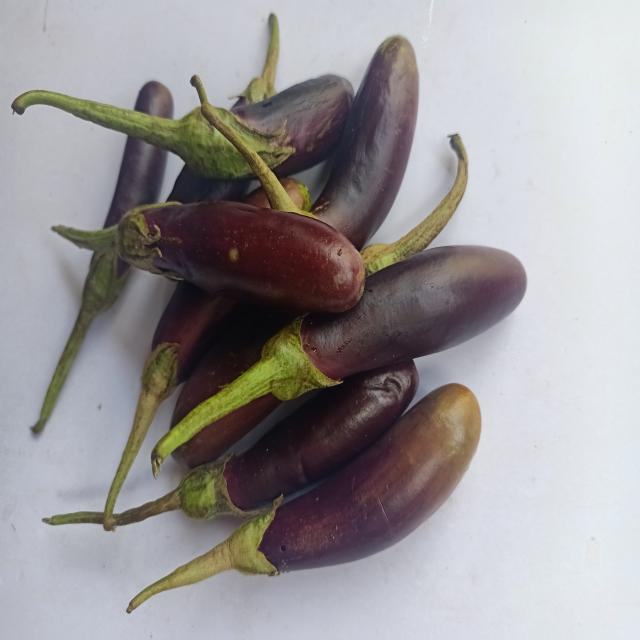Brinjal: (55, 201, 365, 312), (300, 246, 527, 380), (30, 252, 129, 433), (126, 506, 278, 614), (232, 74, 354, 177), (103, 135, 166, 227), (134, 80, 172, 118)
